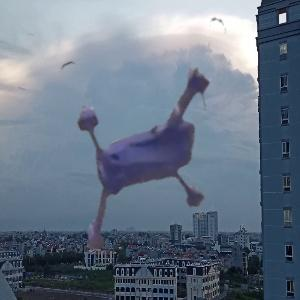drone: (38, 14, 266, 242)
